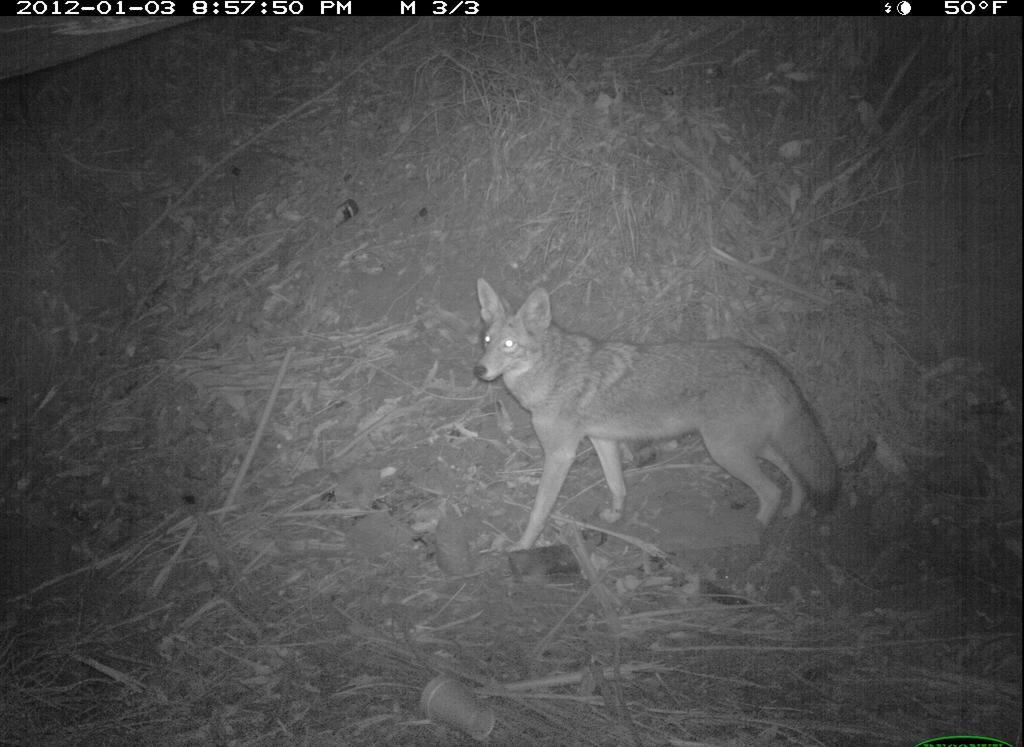coyote: (461, 273, 853, 564)
